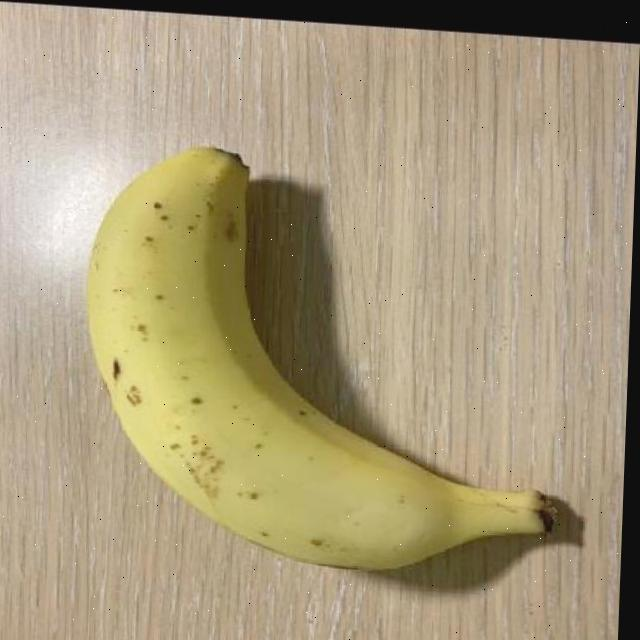banana: (66, 134, 583, 589)
